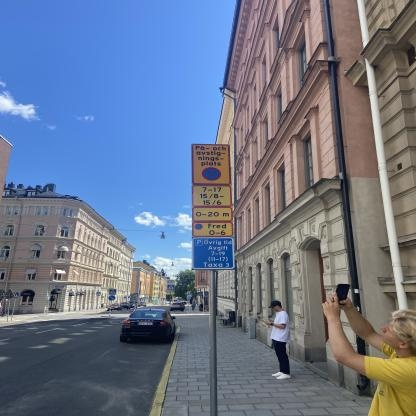avstignnigsplats: (193, 142, 230, 186)
